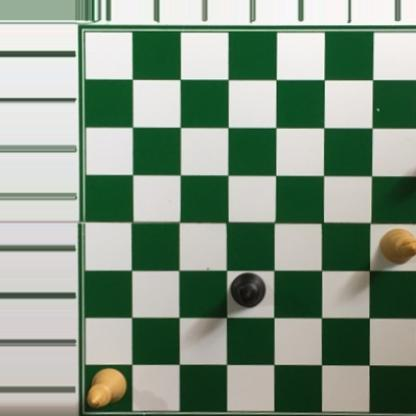black-bishop: (229, 272, 267, 309)
white-bishop: (85, 367, 126, 409), (379, 228, 416, 265)
